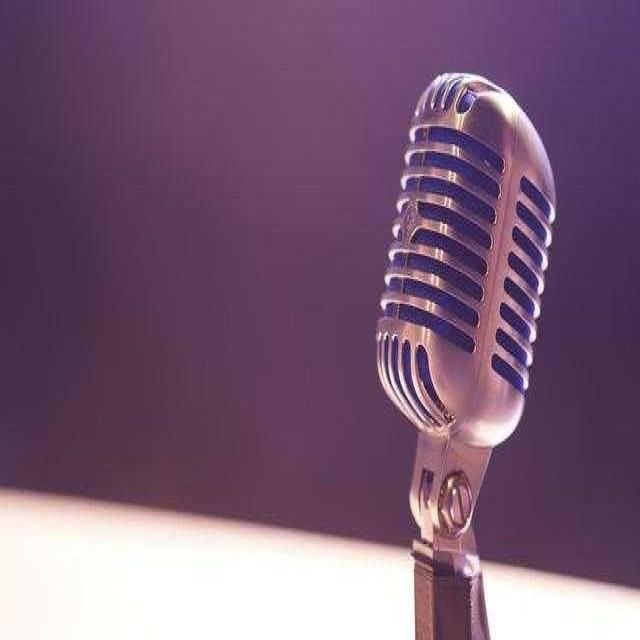microphone: (376, 70, 554, 552)
